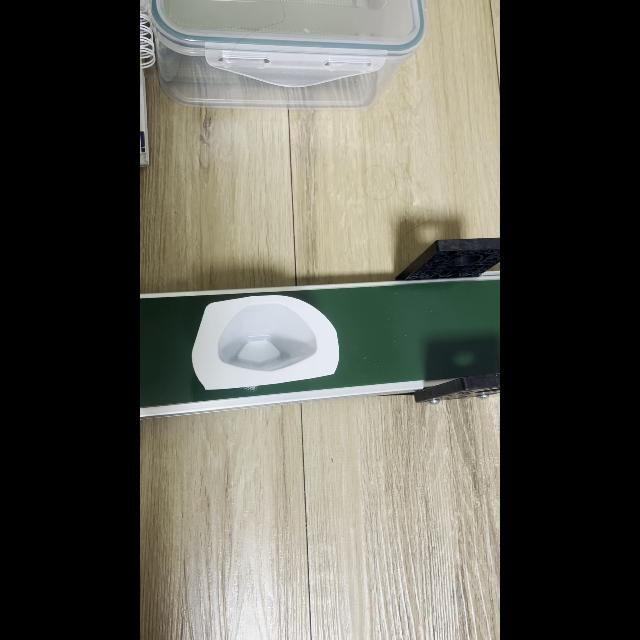clean: (191, 294, 339, 390)
